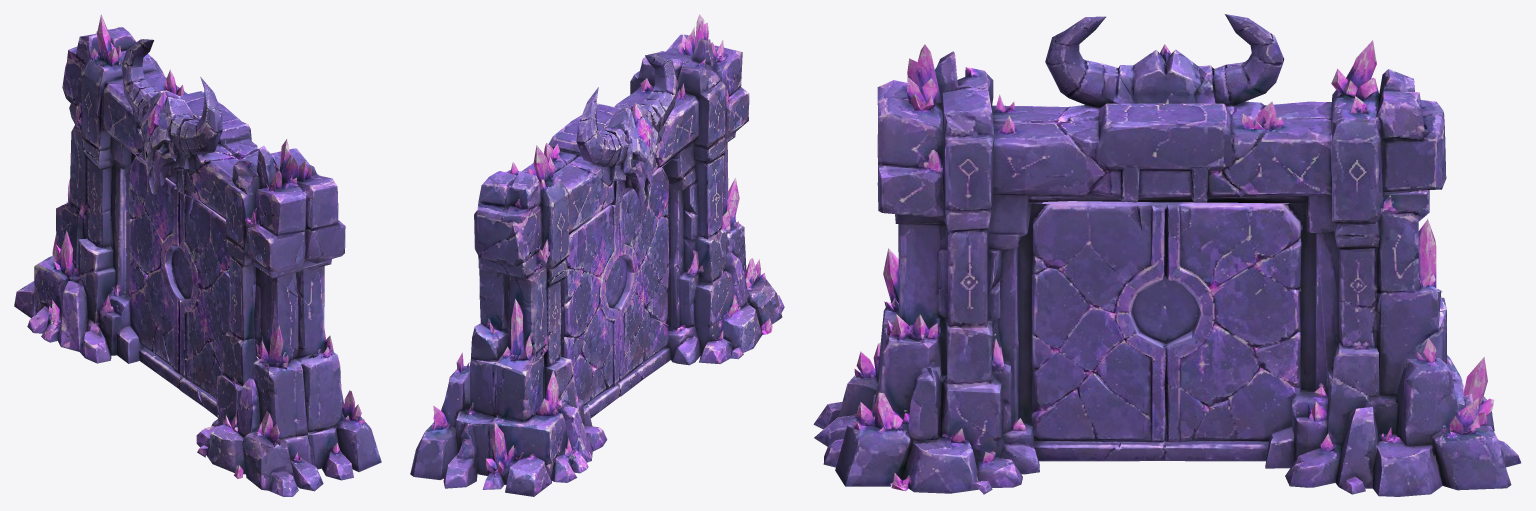
File: boss_door_starfall.glb
3 renders of one model, left to right at view 1: azimuth 30°, elevation 25°; view 2: azimuth 150°, elevation 25°; view 3: azimuth 270°, elevation 25°, orthographic. The views are drawn at different scales.
Parts seen in each view (by area): view 1: jamb_p, jamb_n, slab, lintel; view 2: jamb_n, jamb_p, slab, lintel; view 3: slab, jamb_p, jamb_n, lintel.
Boxes of the visible parts, bbox=[...] form: jamb_p: bbox=[196, 139, 381, 496]; jamb_n: bbox=[14, 14, 164, 357]; slab: bbox=[115, 147, 229, 417]; lintel: bbox=[85, 39, 258, 426]; jamb_n: bbox=[410, 145, 602, 496]; jamb_p: bbox=[630, 14, 784, 363]; slab: bbox=[560, 159, 681, 418]; lintel: bbox=[524, 53, 694, 445]; slab: bbox=[1025, 201, 1307, 464]; jamb_p: bbox=[813, 44, 1024, 494]; jamb_n: bbox=[1308, 40, 1521, 496]; lintel: bbox=[1025, 14, 1307, 487].
Bounding box in the file's own units: 1.94 × 4.3 × 6.49.
1 material, 1 textured.
